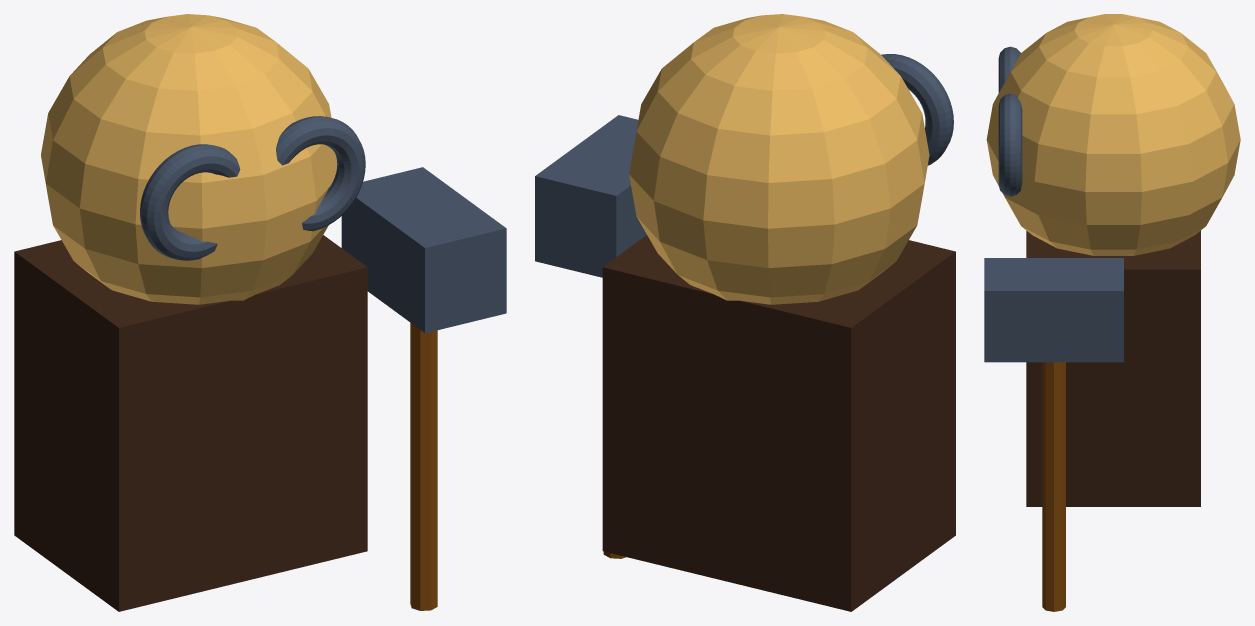
Rendered from corteza.glb.
The picture shows the model from 3 angles, left to right: view 1: azimuth 30°, elevation 25°; view 2: azimuth 150°, elevation 25°; view 3: azimuth 270°, elevation 25°; orthographic projection. The views are drawn at different scales.
Parts seen in each view (by area): view 1: Corteza_Cuerpo, Corteza_Cabeza, Cube, Cylinder, Torus, Torus.001; view 2: Corteza_Cuerpo, Corteza_Cabeza, Cube, Torus; view 3: Corteza_Cabeza, Corteza_Cuerpo, Cube, Cylinder, Torus.001, Torus.
Part boxes in pixels (x1,y1,x2,y2): Corteza_Cuerpo: [14, 235, 367, 611]; Corteza_Cabeza: [41, 14, 337, 304]; Cube: [341, 167, 506, 333]; Cylinder: [410, 323, 437, 610]; Torus: [140, 144, 240, 260]; Torus.001: [276, 116, 365, 231]; Corteza_Cuerpo: [602, 235, 955, 611]; Corteza_Cabeza: [629, 14, 929, 304]; Cube: [535, 115, 646, 277]; Torus: [881, 54, 953, 165]; Corteza_Cabeza: [986, 14, 1240, 255]; Corteza_Cuerpo: [1026, 230, 1200, 506]; Cube: [984, 258, 1123, 362]; Cylinder: [1042, 362, 1065, 611]; Torus.001: [998, 93, 1022, 196]; Torus: [998, 46, 1020, 92].
Size of the model in its own units: 0.891 by 1.4 by 0.646.
